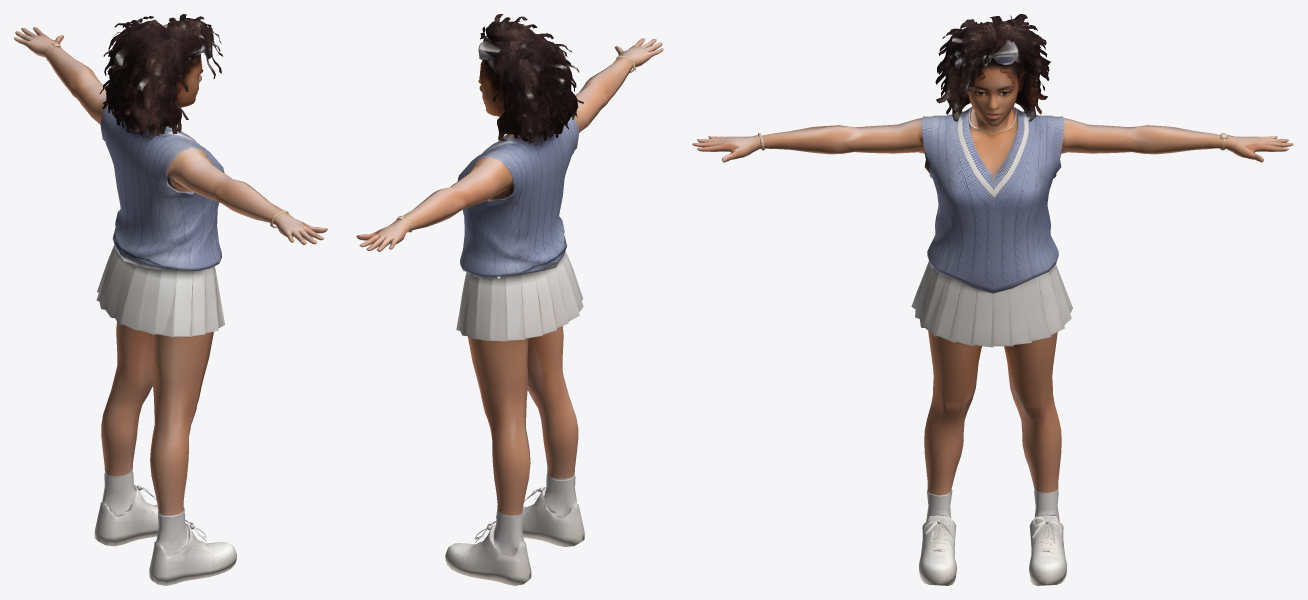
Rendered from fashiondoll3dmodel.glb.
The picture shows the model from 3 angles, left to right: view 1: azimuth 30°, elevation 25°; view 2: azimuth 150°, elevation 25°; view 3: azimuth 270°, elevation 25°; orthographic projection. The views are drawn at different scales.
Parts seen in each view (by area): view 1: tripo_node_0f248688-5369-43b9-b613-ae47e6d96eb5; view 2: tripo_node_0f248688-5369-43b9-b613-ae47e6d96eb5; view 3: tripo_node_0f248688-5369-43b9-b613-ae47e6d96eb5.
Boxes of the visible parts, x1=… form: tripo_node_0f248688-5369-43b9-b613-ae47e6d96eb5: x1=14, y1=14, x2=327, y2=585; tripo_node_0f248688-5369-43b9-b613-ae47e6d96eb5: x1=356, y1=14, x2=663, y2=585; tripo_node_0f248688-5369-43b9-b613-ae47e6d96eb5: x1=692, y1=14, x2=1293, y2=585.
Bounding box in the file's own units: 0.2017 × 0.9995 × 0.9888.
Materials: 1 (1 with a texture image).
